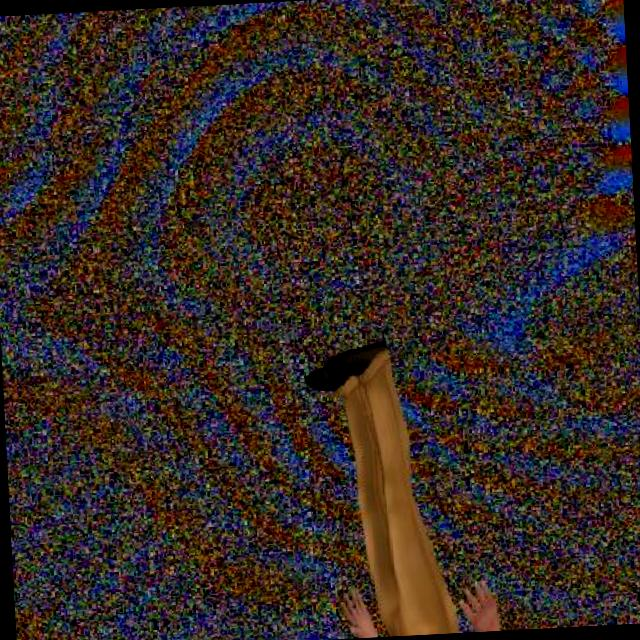Person: (300, 334, 509, 640)
